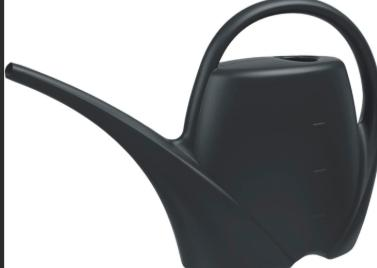ARROSOIR: (5, 2, 377, 268)
